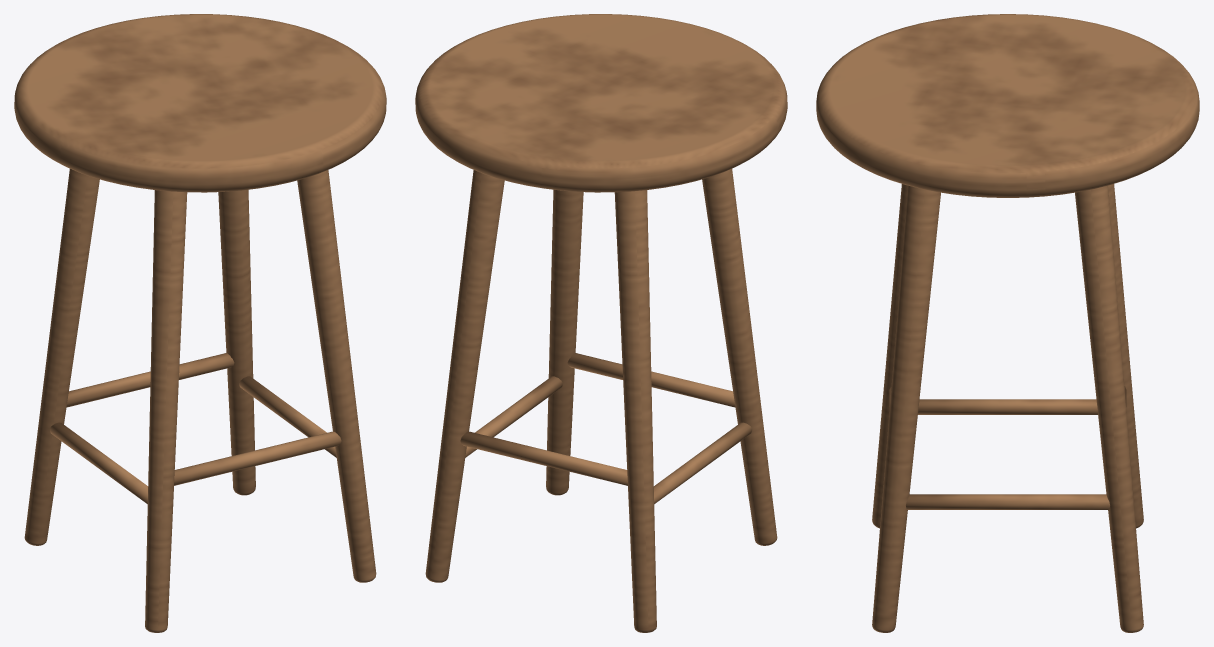
Rendered from SM_FireGirl_Stool.fbx.
3 renders of one model, left to right at view 1: azimuth 30°, elevation 25°; view 2: azimuth 150°, elevation 25°; view 3: azimuth 270°, elevation 25°, orthographic. The views are drawn at different scales.
Visible parts, largest first — view 1: SM_FireGirl_Stool; view 2: SM_FireGirl_Stool; view 3: SM_FireGirl_Stool.
Boxes of the visible parts, box(x1,y1,x2,y2) form: SM_FireGirl_Stool: box(14, 14, 386, 632); SM_FireGirl_Stool: box(415, 14, 787, 632); SM_FireGirl_Stool: box(816, 14, 1199, 632).
Size of the model in its own units: 34.42 by 48.33 by 34.42.
